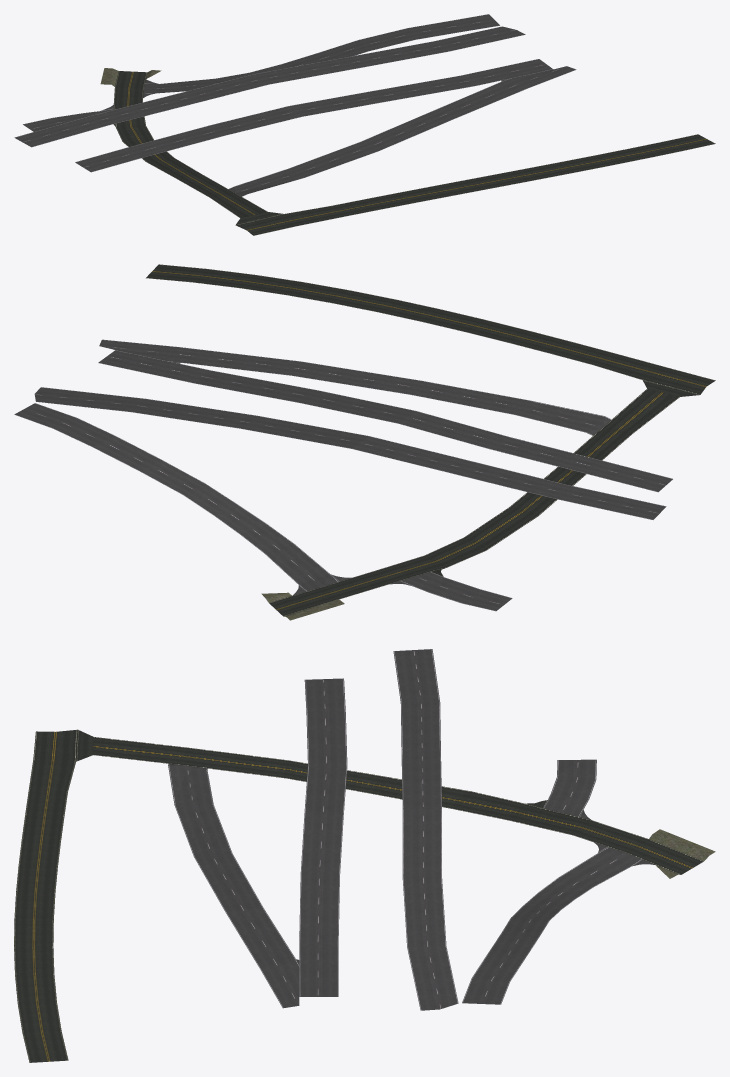
Rendered from cuntsrod02.obj.
3 views of the same model, one above another, from view 1: azimuth 30°, elevation 25°; view 2: azimuth 150°, elevation 25°; view 3: azimuth 270°, elevation 25° (orthographic). The views are drawn at different scales.
Parts seen in each view (by area): view 1: cuntsrod02; view 2: cuntsrod02; view 3: cuntsrod02.
Boxes of the visible parts, x1,y1,x2,y2 form: cuntsrod02: (14, 14, 715, 235); cuntsrod02: (14, 264, 715, 620); cuntsrod02: (14, 649, 715, 1062).
Bounding box in the file's own units: 265 × 26.4 × 214.
4 materials, 4 textured.
